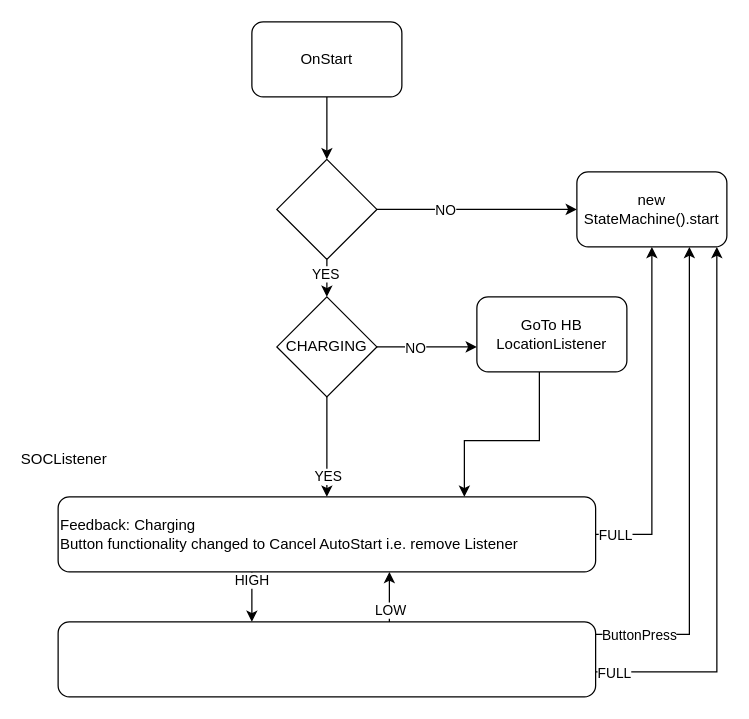
Image size: 749x719. Some labels were removed from this diagram. The shapes that lost their labels are listed below. From the top down, each one's centre as x and y in pixels, then its label:
At (x=326, y=208): "SOC==LOW".
At (x=326, y=659): "Feedback: Charging Button functionality changed to StartNow".
